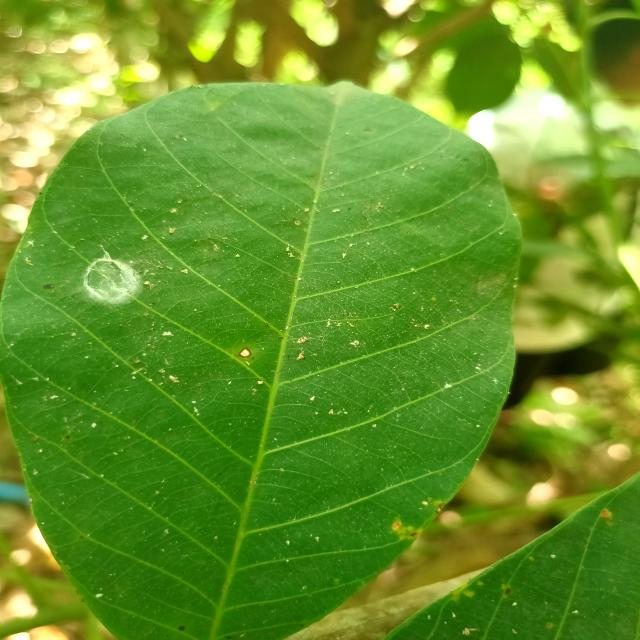Colletotrichum: (239, 348, 251, 358)
